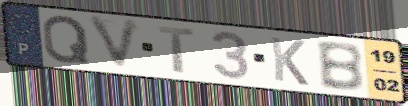3: (208, 29, 252, 82)
B: (313, 41, 367, 94)
K: (268, 35, 311, 88)
Q: (41, 14, 93, 65)
T: (156, 25, 197, 75)
V: (85, 14, 144, 74)
